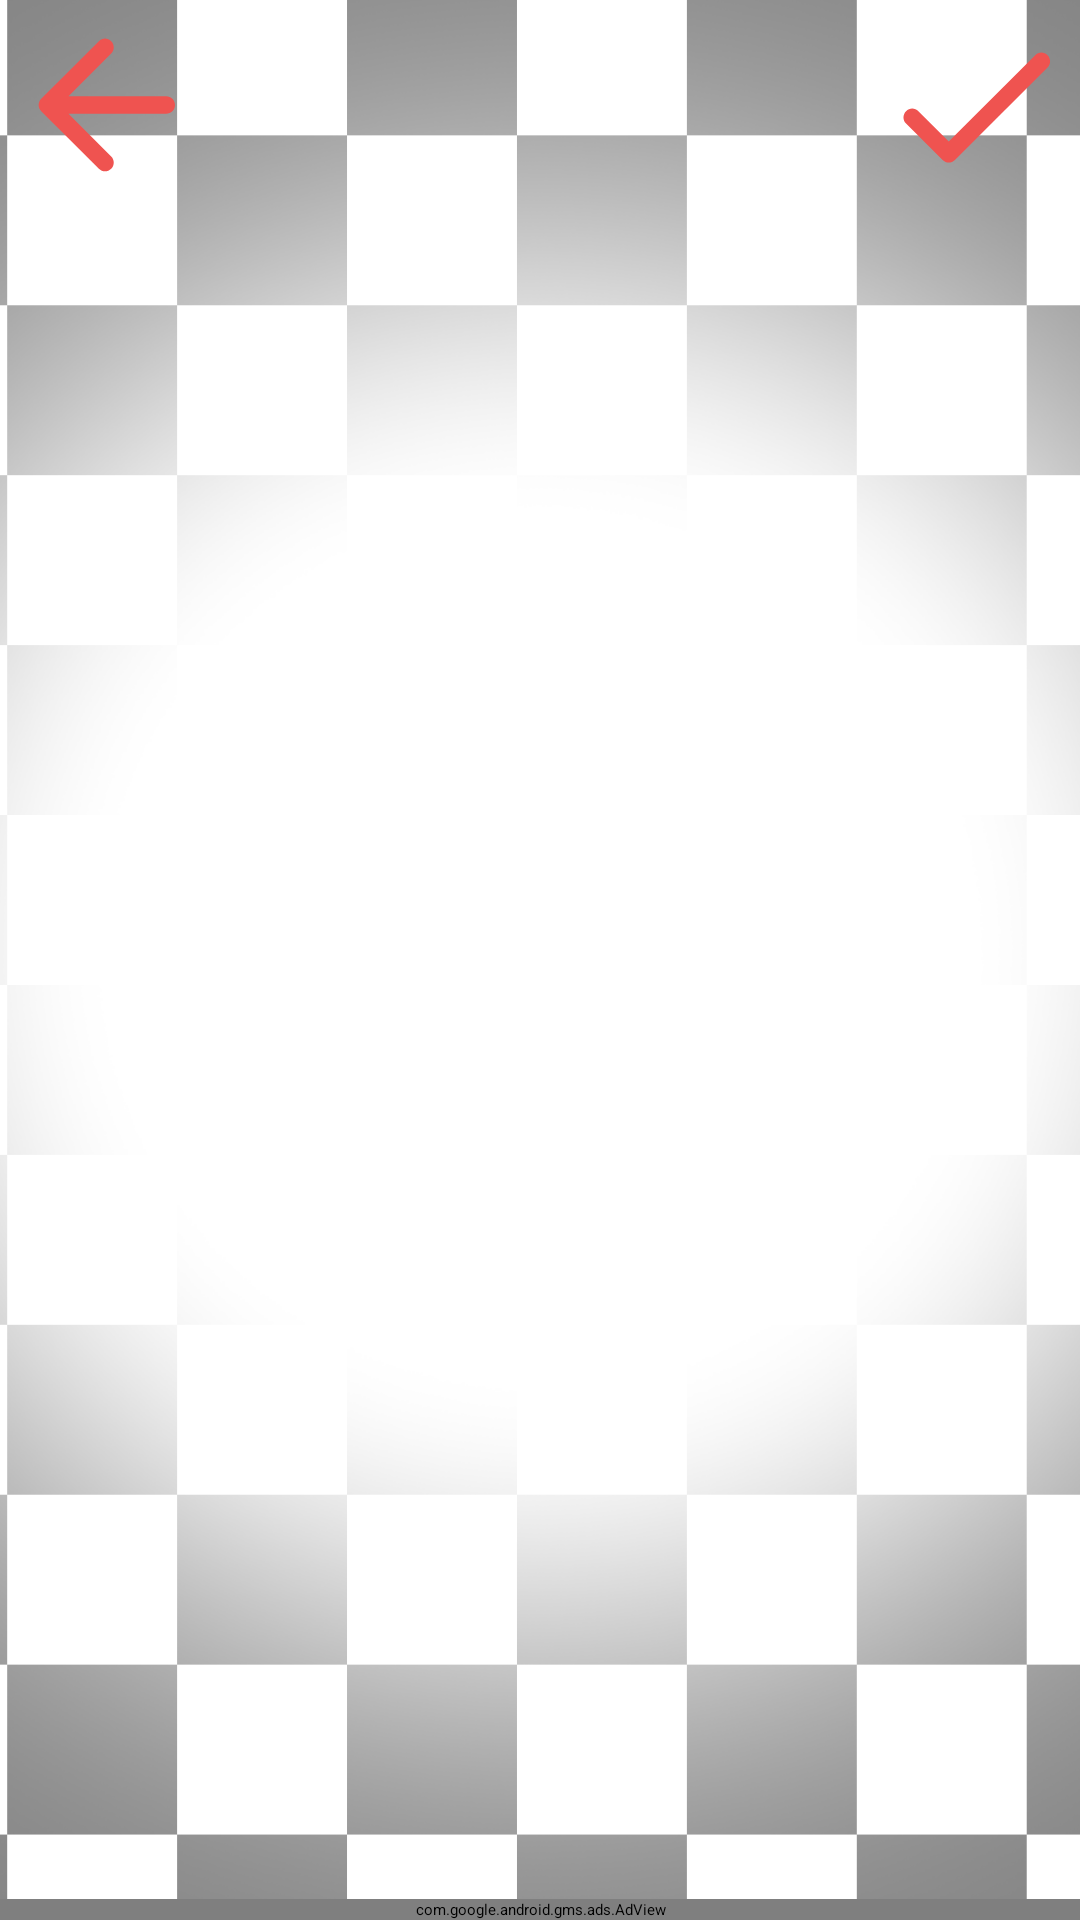

Icons on this 1080 × 1920 Android screen, each with the point to tap as [x,y]:
arrow back: [105,105]
check: [975,105]
